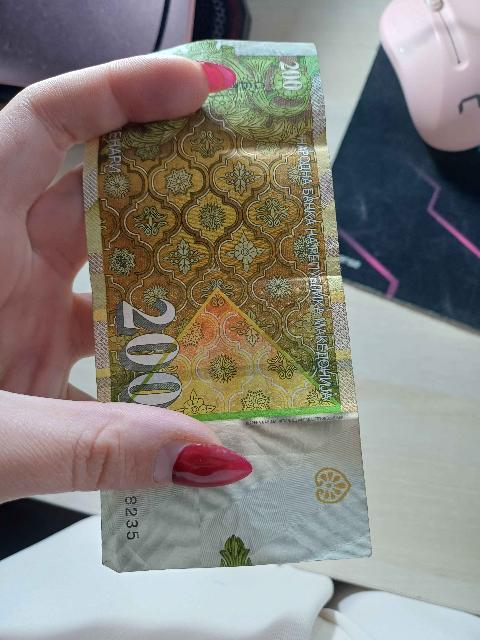200_note: (85, 41, 370, 571)
